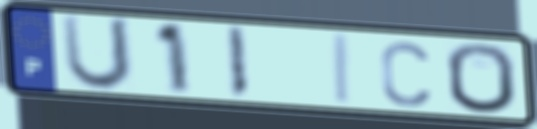1: (153, 22, 193, 95)
C: (377, 38, 434, 109)
I: (223, 24, 251, 102), (333, 32, 354, 107)
O: (443, 40, 520, 116)
U: (58, 12, 135, 94)
